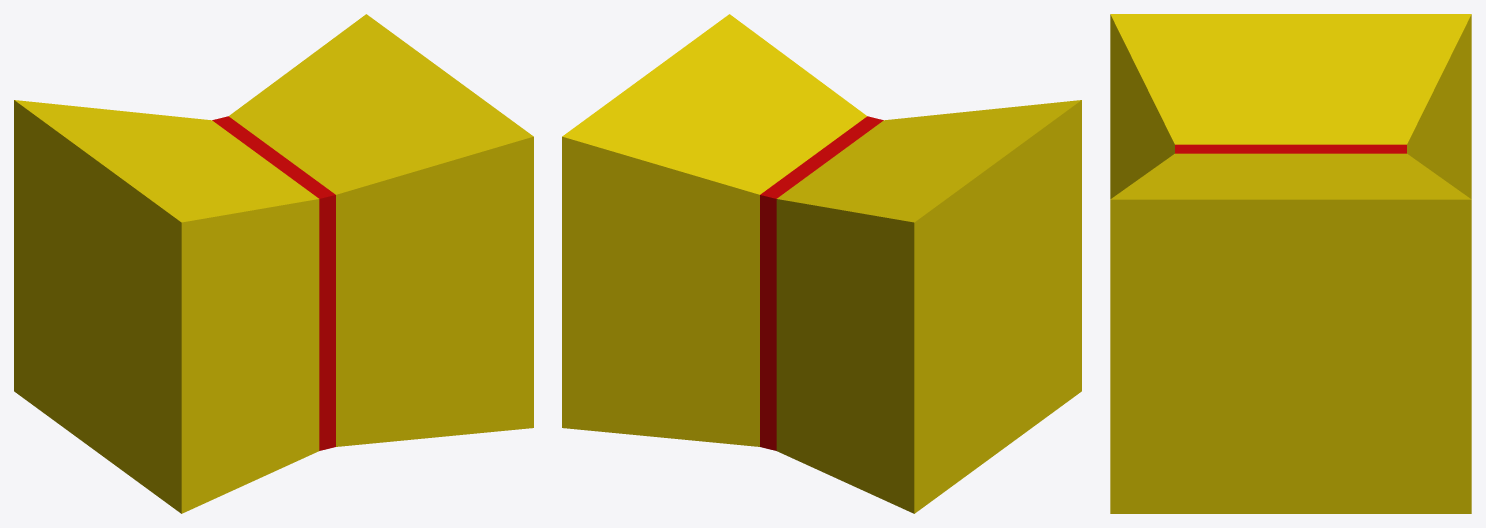
The model's file is Heno.fbx.
3 views of the same model, side by side, from view 1: azimuth 30°, elevation 25°; view 2: azimuth 150°, elevation 25°; view 3: azimuth 270°, elevation 25° (orthographic). The views are drawn at different scales.
Parts seen in each view (by area): view 1: heno:pCube1; view 2: heno:pCube1; view 3: heno:pCube1.
Part boxes in pixels (left/top/right/bottom): heno:pCube1: left=14, top=14, right=533, bottom=513; heno:pCube1: left=562, top=14, right=1081, bottom=513; heno:pCube1: left=1110, top=14, right=1471, bottom=513.
Size of the model in its own units: 2646 by 2092 by 2178.
